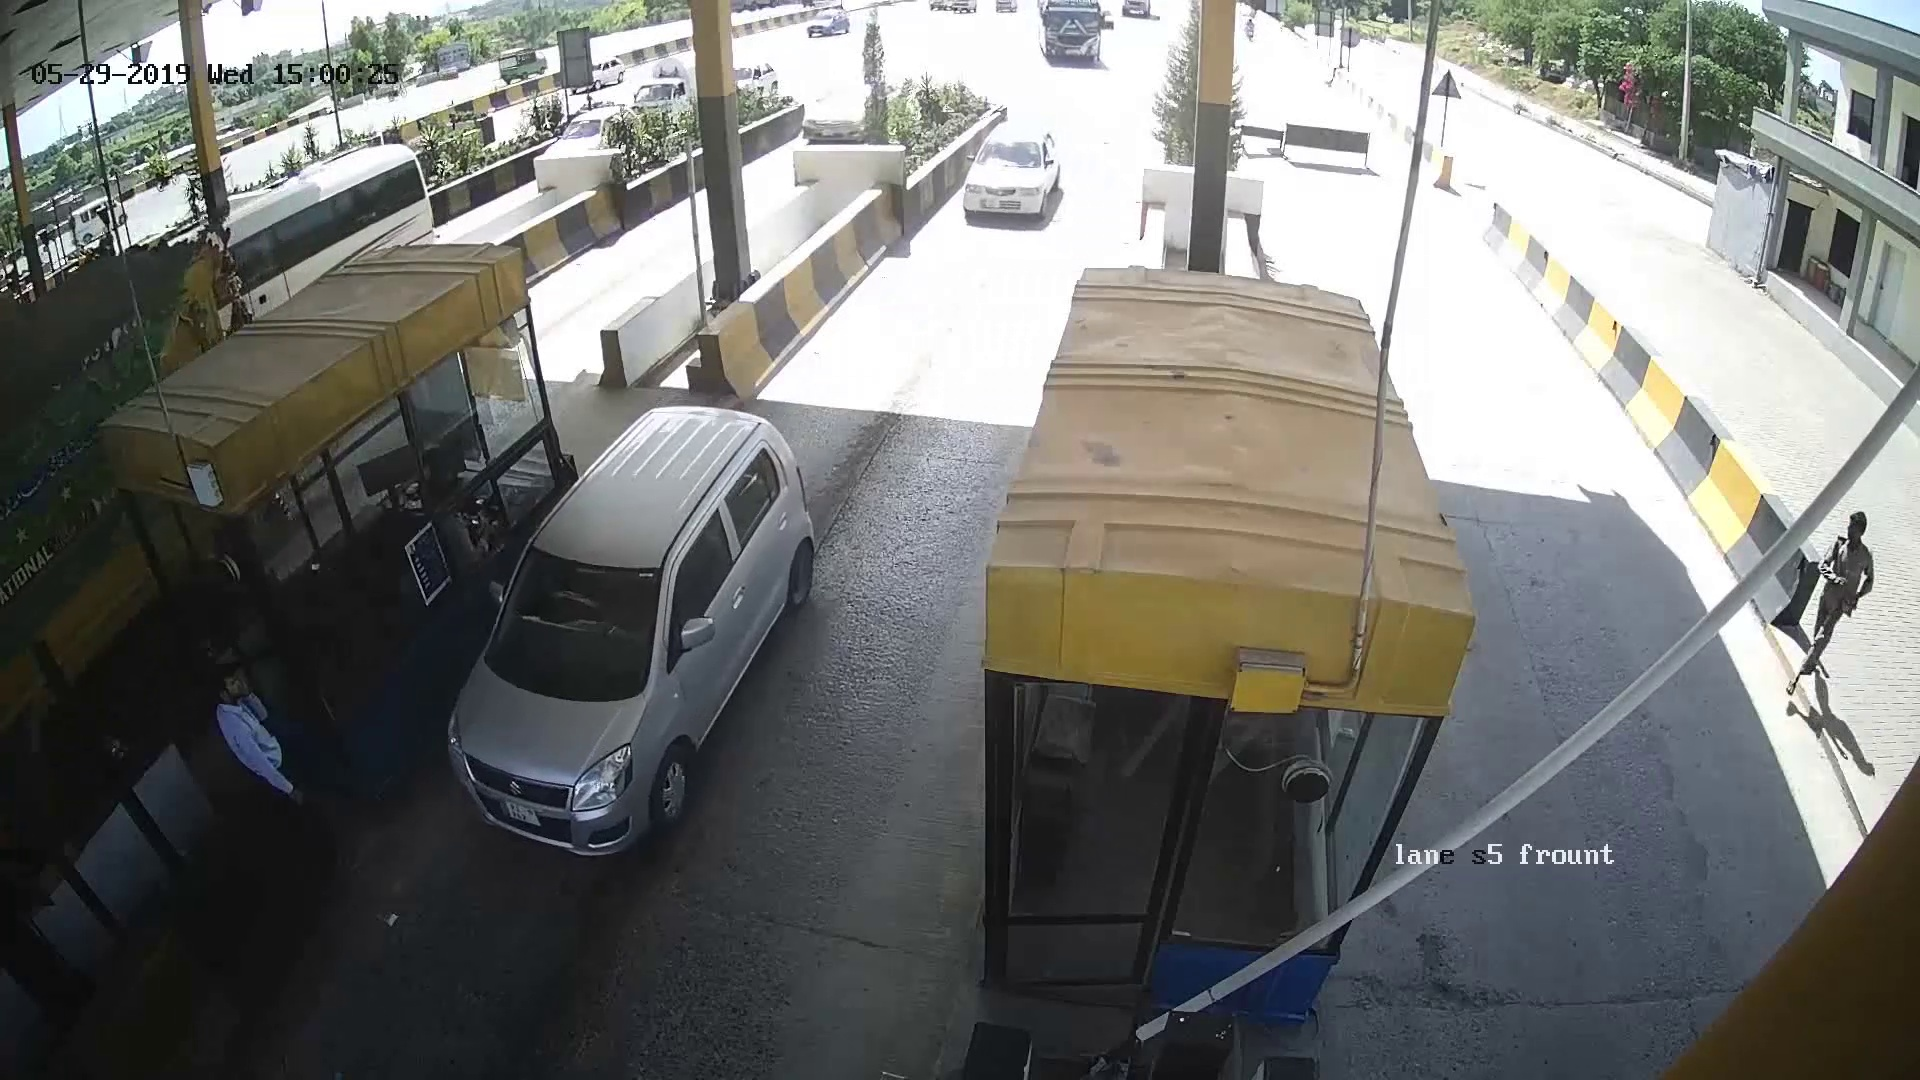car: (467, 433, 825, 816), (961, 129, 1073, 229)
